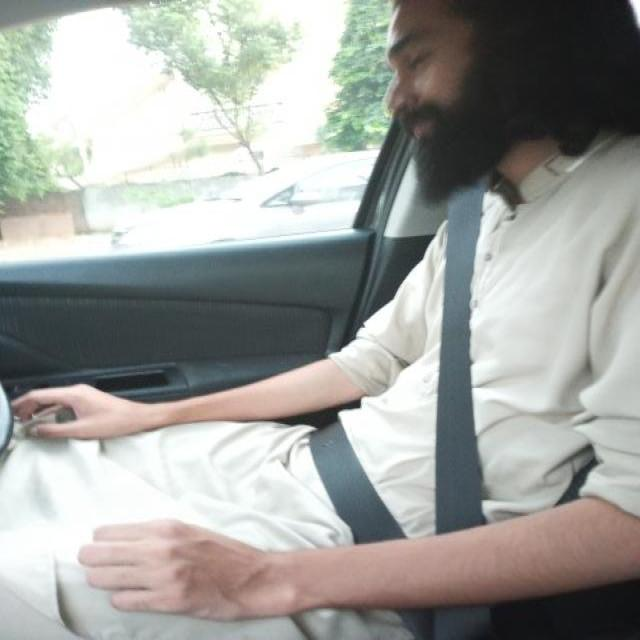seatbelt: (288, 111, 615, 640)
